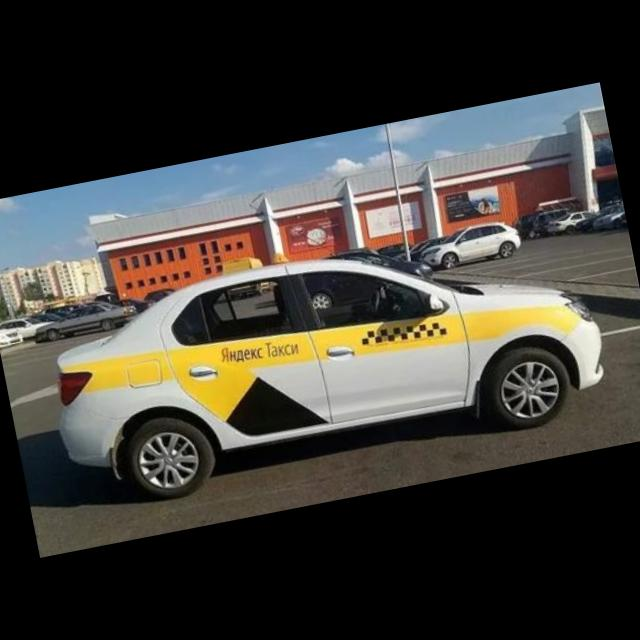taxi: (33, 195, 617, 520)
